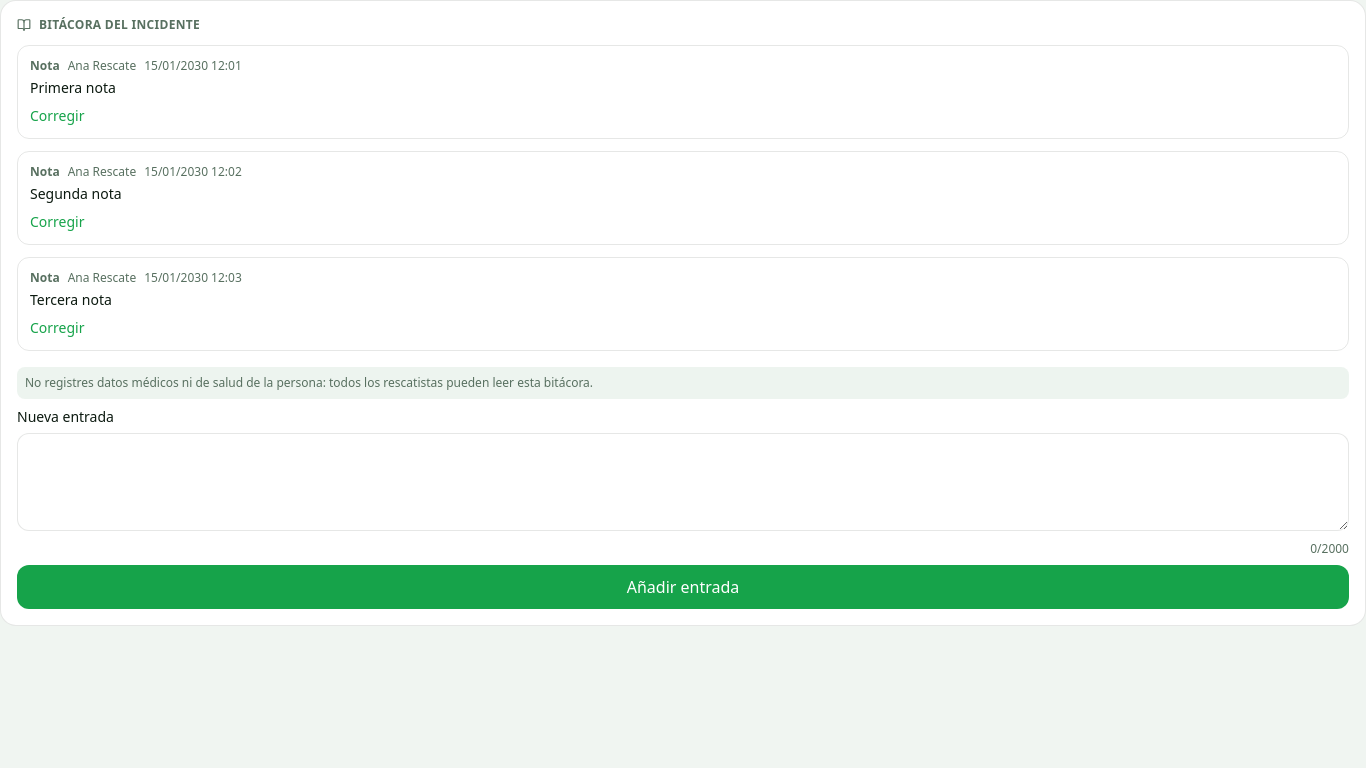
Scenario: BitacoraIncidente (HU-41) › error sin respuesta: el textarea queda readOnly, "Reintentar envío" reutiliza el mismo operacionId y "Descartar" genera uno nuevo
Later steps or results of the test are not shown.
Type "Con error" into the text box labelled "Nueva entrada" at x=683, y=482, box x1=17 y1=433 x2=1349 y2=531
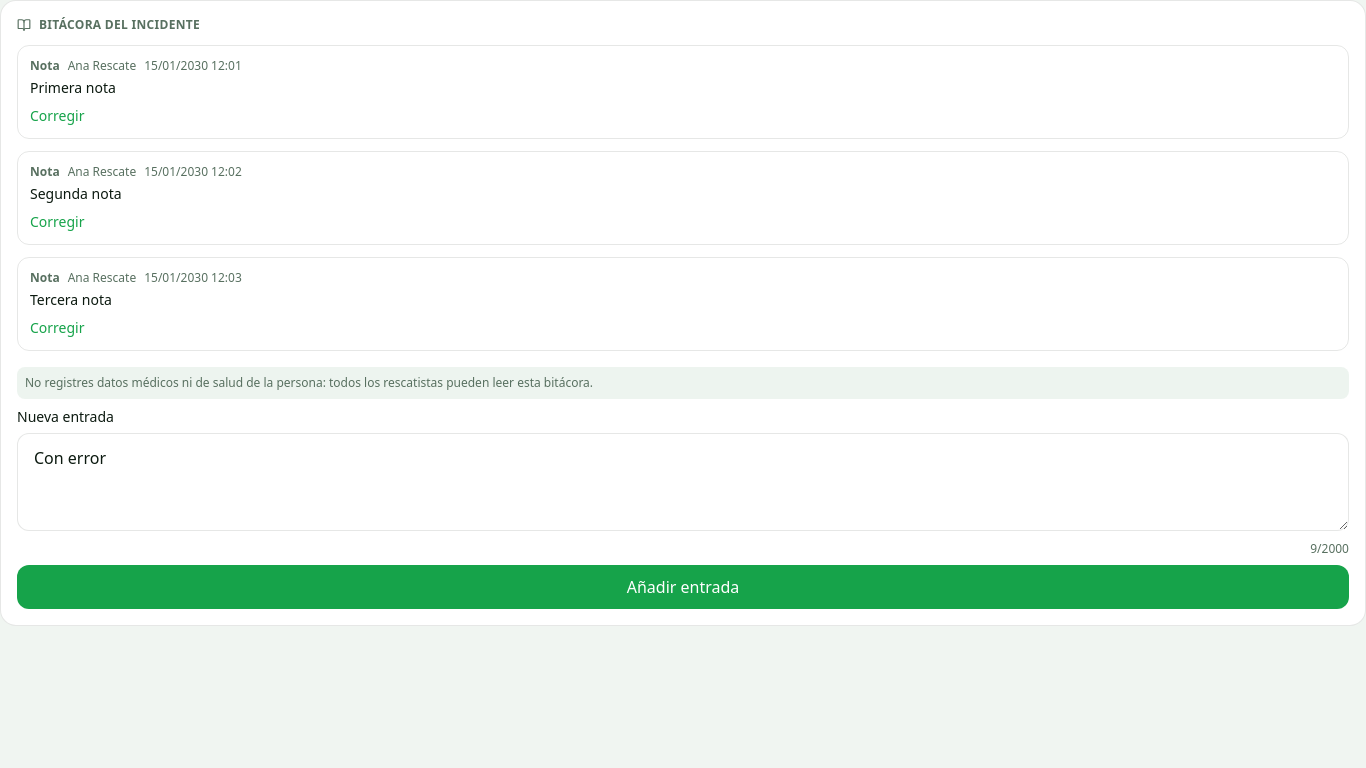
Click the button "Añadir entrada" at x=683, y=587, box x1=17 y1=565 x2=1349 y2=609
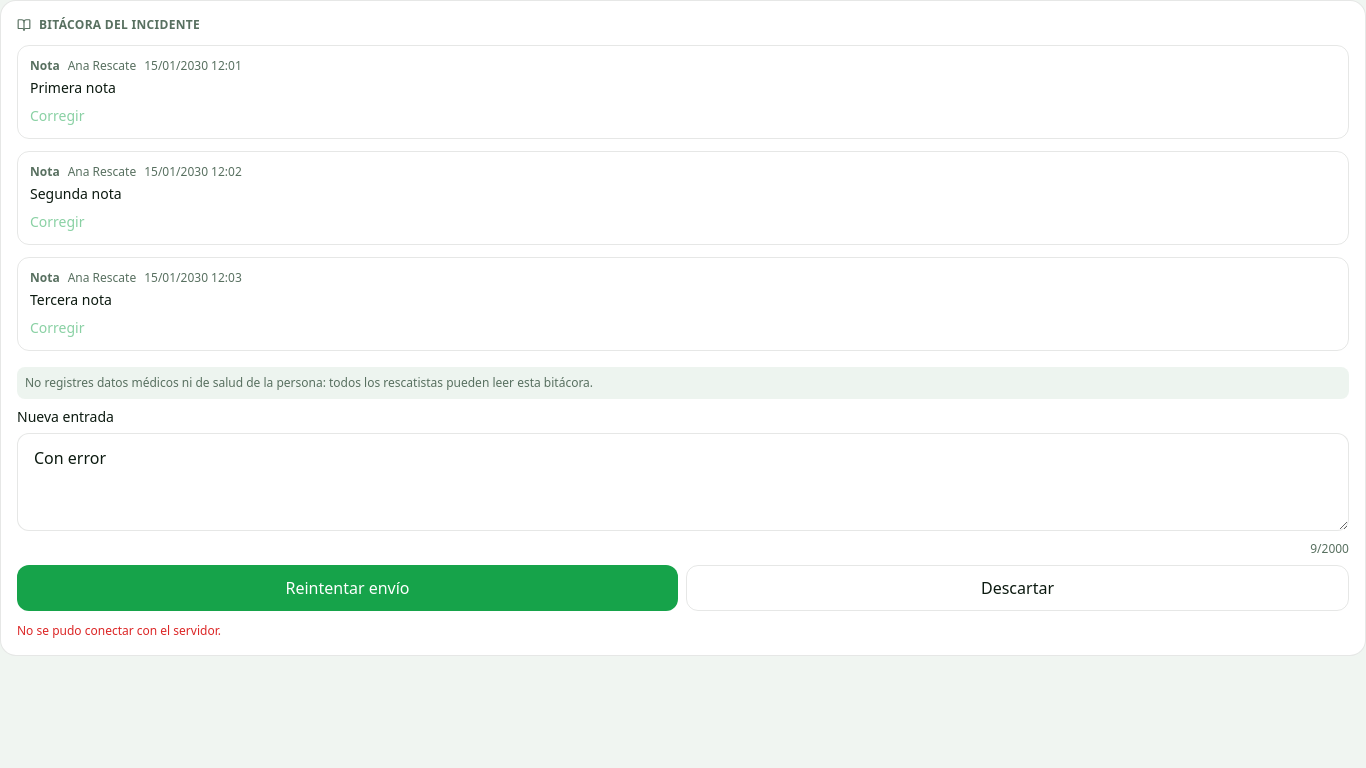
Result: the button "Reintentar envío" is shown at x1=17 y1=565 x2=678 y2=611
Result: the button "Descartar" is shown at x1=686 y1=565 x2=1349 y2=611
